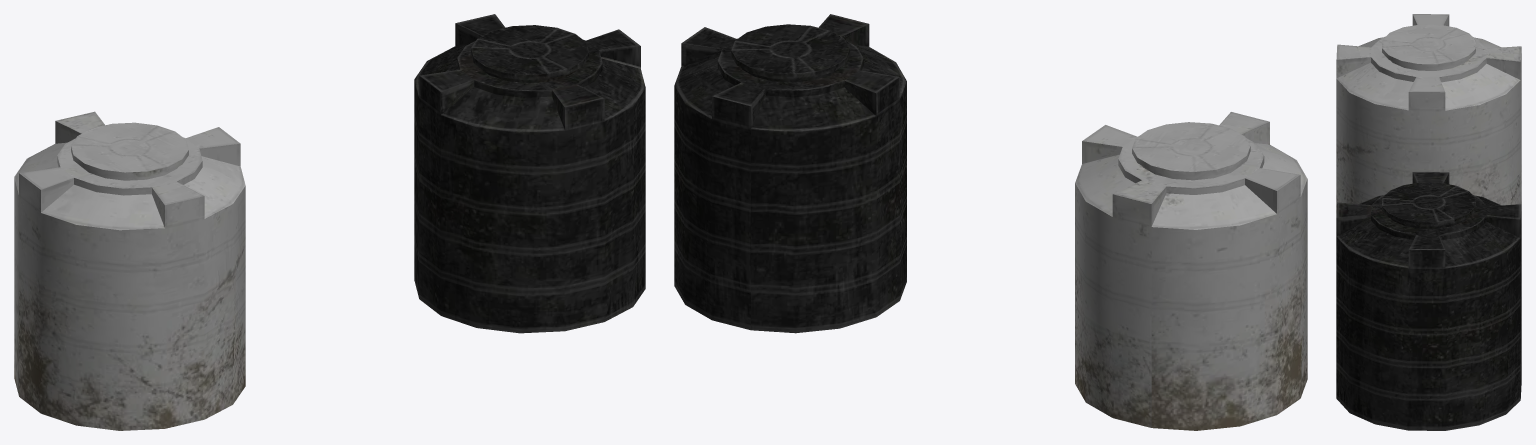
File: roof-tank.lod0.glb
3 renders of one model, left to right at view 1: azimuth 30°, elevation 25°; view 2: azimuth 150°, elevation 25°; view 3: azimuth 270°, elevation 25°, orthographic. The views are drawn at different scales.
Visible parts, largest first — view 1: water tank lp_water tank_0; view 2: water tank lp_water tank_0; view 3: water tank lp_water tank_0.
Part boxes in pixels (bbox=[...]): water tank lp_water tank_0: bbox=[14, 14, 645, 430]; water tank lp_water tank_0: bbox=[674, 14, 1307, 430]; water tank lp_water tank_0: bbox=[1336, 14, 1521, 430].
Bounding box in the file's own units: 8.01 × 3 × 2.65.
1 material, 1 textured.
